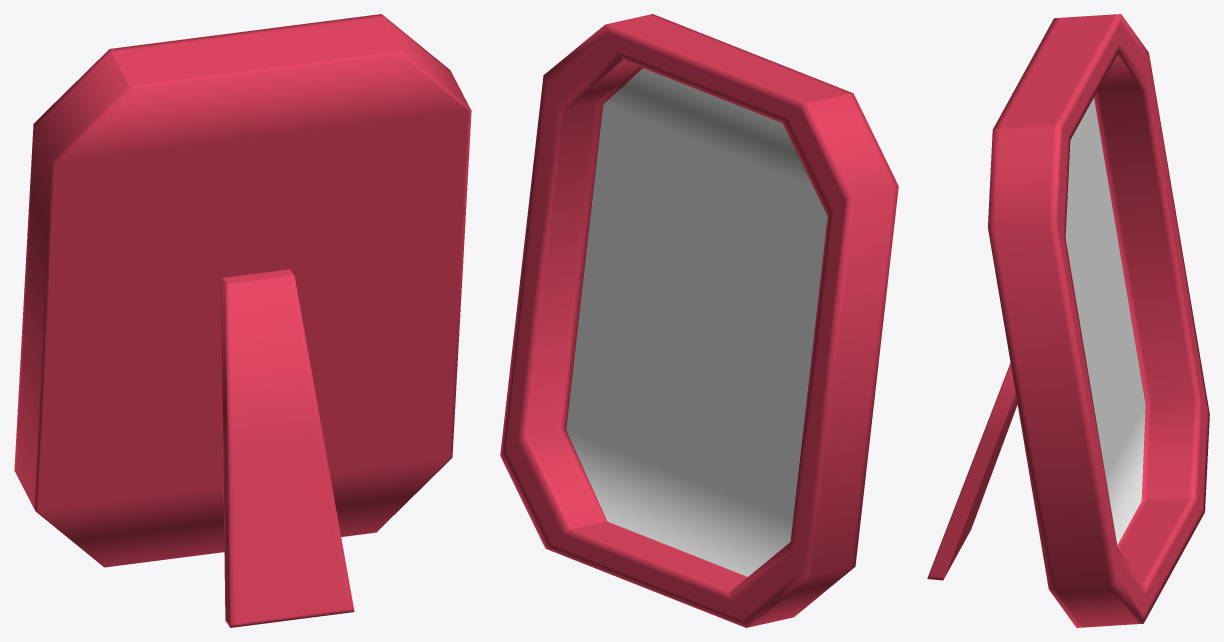
The model's file is Picture frame_01.fbx.
The picture shows the model from 3 angles, left to right: view 1: azimuth 30°, elevation 25°; view 2: azimuth 150°, elevation 25°; view 3: azimuth 270°, elevation 25°; orthographic projection. The views are drawn at different scales.
Parts seen in each view (by area): view 1: Picture frame.001; view 2: Picture frame.001; view 3: Picture frame.001.
Part boxes in pixels (box(x1,y1,x2,y2)): Picture frame.001: box(14, 14, 471, 627); Picture frame.001: box(500, 14, 898, 627); Picture frame.001: box(927, 14, 1209, 627).
Bounding box in the file's own units: 28.55 × 36.35 × 18.6.
